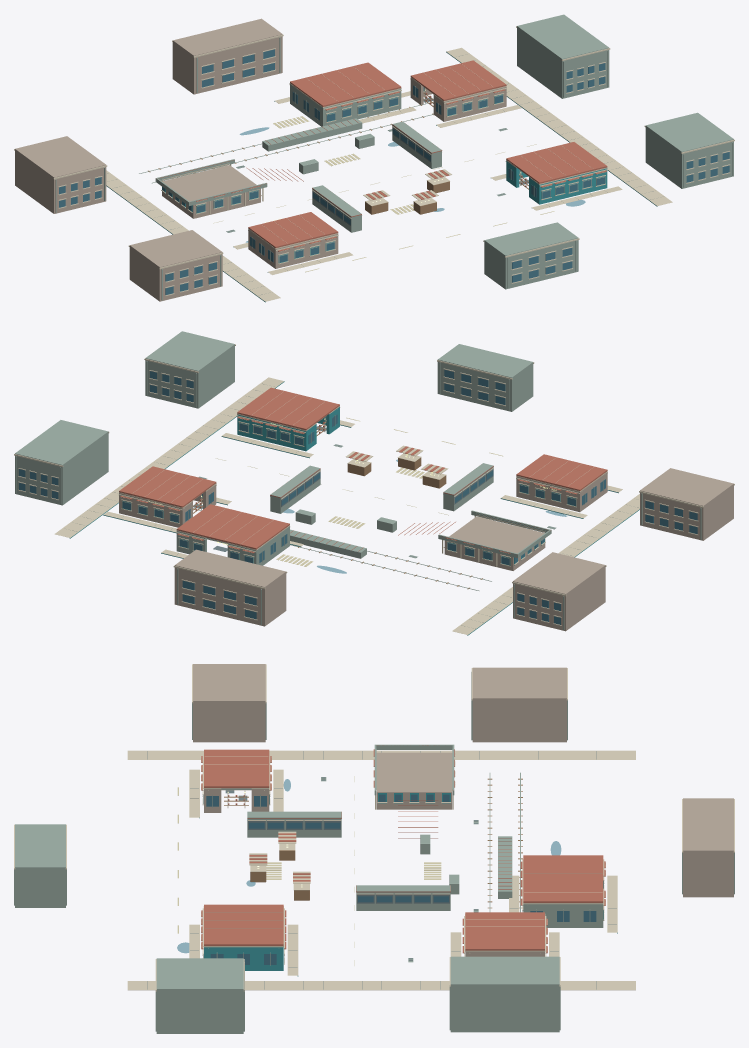
The model's file is rainmarket-exchange.glb.
3 views of the same model, one above another, from view 1: azimuth 30°, elevation 25°; view 2: azimuth 150°, elevation 25°; view 3: azimuth 270°, elevation 25° (orthographic). The views are drawn at different scales.
Visible parts, largest first — view 1: batched-market oxidized copper, batched-market warm limestone, batched-market polished ceramic, batched-market tiled awning red, batched-market cobalt glazing, batched-market painted teal, batched-market spice/wood stalls, batched-market transit cream line, batched-market rain-dark basalt paving; view 2: batched-market oxidized copper, batched-market warm limestone, batched-market polished ceramic, batched-market tiled awning red, batched-market cobalt glazing, batched-market painted teal, batched-market spice/wood stalls, batched-market transit cream line, batched-market rain-dark basalt paving; view 3: batched-market oxidized copper, batched-market warm limestone, batched-market tiled awning red, batched-market polished ceramic, batched-market cobalt glazing, batched-market painted teal, batched-market rain-dark basalt paving, batched-market spice/wood stalls, batched-market transit cream line.
Part boxes in pixels (box(x1,y1,x2,y2)): batched-market oxidized copper: box(55, 14, 733, 300); batched-market warm limestone: box(15, 18, 506, 301); batched-market polished ceramic: box(14, 26, 734, 301); batched-market tiled awning red: box(156, 60, 607, 251); batched-market cobalt glazing: box(59, 49, 729, 295); batched-market painted teal: box(106, 52, 657, 302); batched-market spice/wood stalls: box(148, 92, 528, 214); batched-market transit cream line: box(213, 116, 554, 272); batched-market rain-dark basalt paving: box(107, 55, 653, 294); batched-market oxidized copper: box(15, 331, 701, 629); batched-market warm limestone: box(119, 468, 733, 631); batched-market polished ceramic: box(14, 344, 734, 634); batched-market tiled awning red: box(119, 387, 607, 554); batched-market cobalt glazing: box(19, 369, 697, 624); batched-market painted teal: box(69, 381, 639, 635); batched-market spice/wood stalls: box(193, 421, 482, 589); batched-market transit cream line: box(216, 417, 503, 566); batched-market rain-dark basalt paving: box(72, 383, 638, 628); batched-market oxidized copper: box(14, 672, 734, 1033); batched-market warm limestone: box(193, 664, 733, 956); batched-market tiled awning red: box(201, 745, 605, 953); batched-market polished ceramic: box(14, 664, 734, 991); batched-market cobalt glazing: box(206, 794, 596, 964); batched-market painted teal: box(199, 793, 617, 976); batched-market rain-dark basalt paving: box(147, 751, 616, 989); batched-market spice/wood stalls: box(224, 778, 522, 908); batched-market transit cream line: box(177, 776, 441, 965).
Size of the model in its own units: 107 by 7.3 by 99.29.
